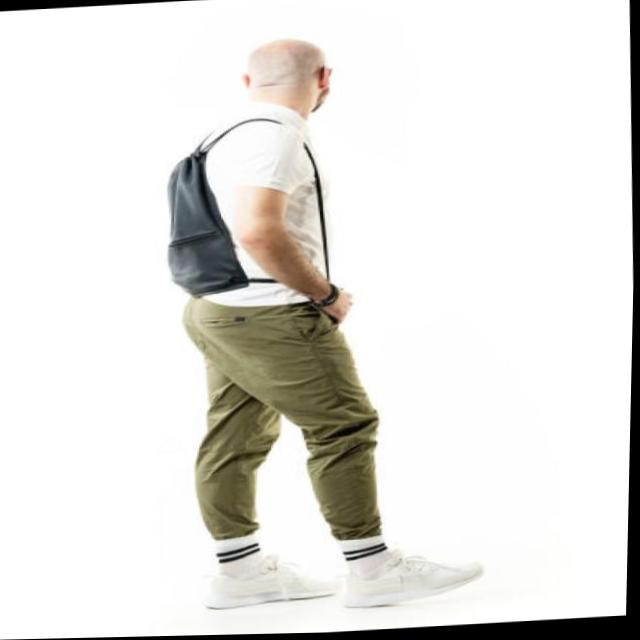no helmet: (203, 23, 372, 141)
